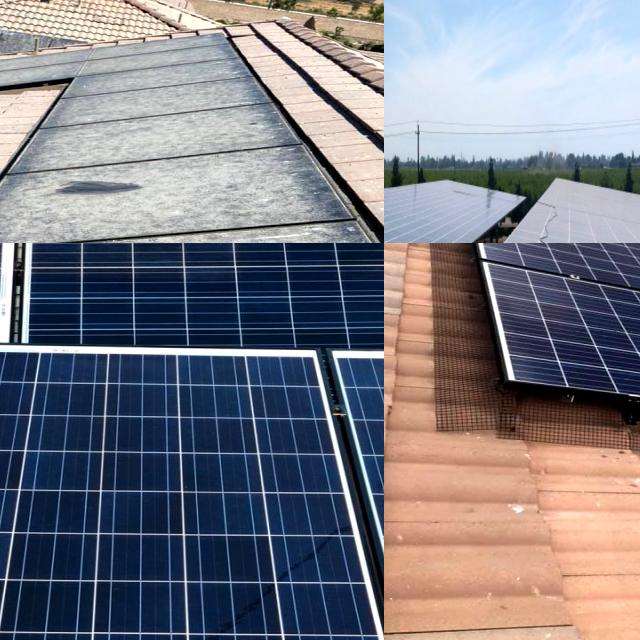crack: (0, 343, 384, 640), (13, 243, 384, 396), (467, 254, 640, 458), (438, 243, 640, 327), (0, 243, 126, 359), (431, 243, 640, 295), (427, 243, 640, 290)
dust: (41, 147, 296, 216), (67, 74, 254, 150), (0, 30, 209, 88), (543, 186, 607, 243)
